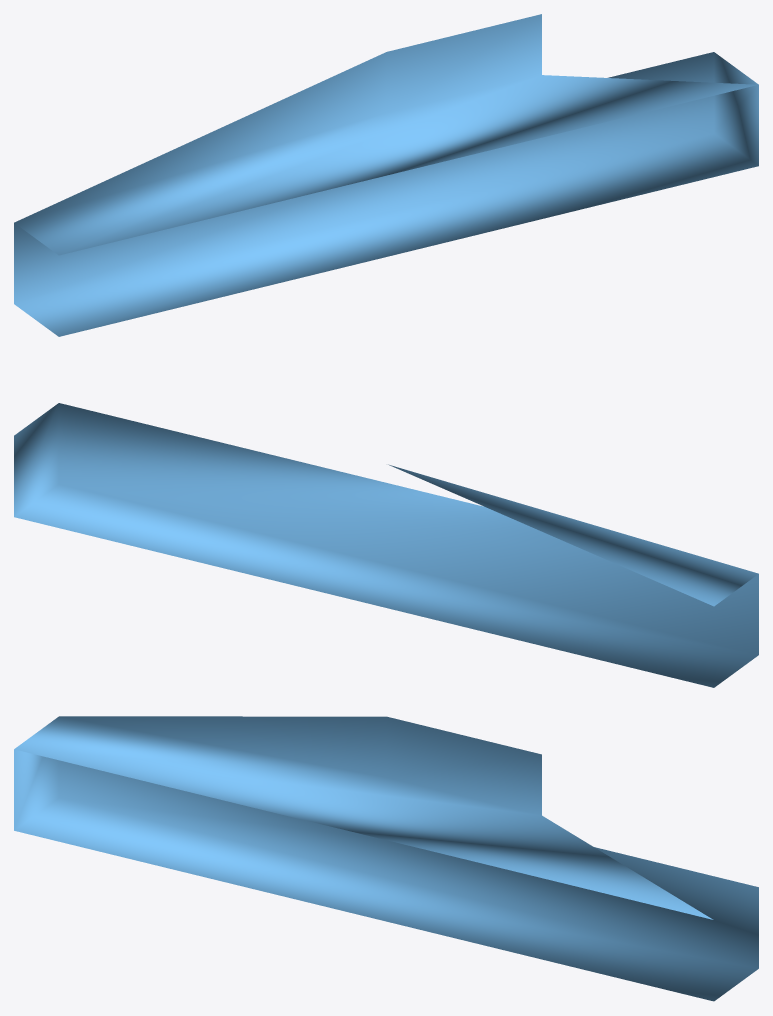
Rendered from placeholder-primary.gltf.
The picture shows the model from 3 angles, top to bottom: view 1: azimuth 30°, elevation 25°; view 2: azimuth 150°, elevation 25°; view 3: azimuth 330°, elevation 25°; orthographic projection.
Visible parts, largest first — view 1: PlaceholderPrimary; view 2: PlaceholderPrimary; view 3: PlaceholderPrimary.
Part boxes in pixels (bbox=[...]): PlaceholderPrimary: bbox=[14, 14, 758, 336]; PlaceholderPrimary: bbox=[14, 403, 758, 687]; PlaceholderPrimary: bbox=[14, 716, 758, 1001].
Size of the model in its own units: 1.8 by 0.45 by 0.2.
